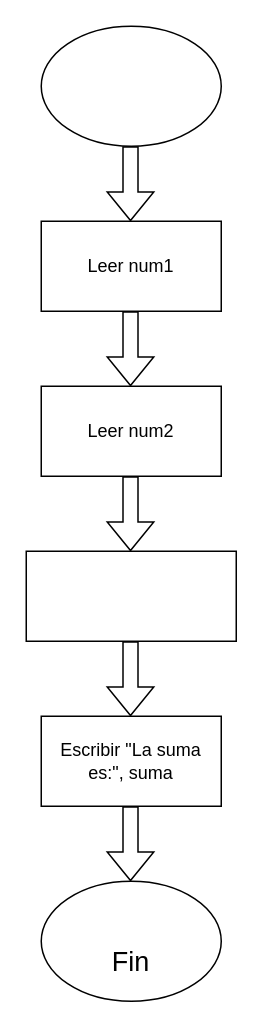
Some shapes in this 263 by 1028 pixel diagram are drawn without their labels. Each missing label, with the centre of its shape:
"Inicio" goes at point (130, 85).
"suma = num1 + num2" goes at point (130, 595).
